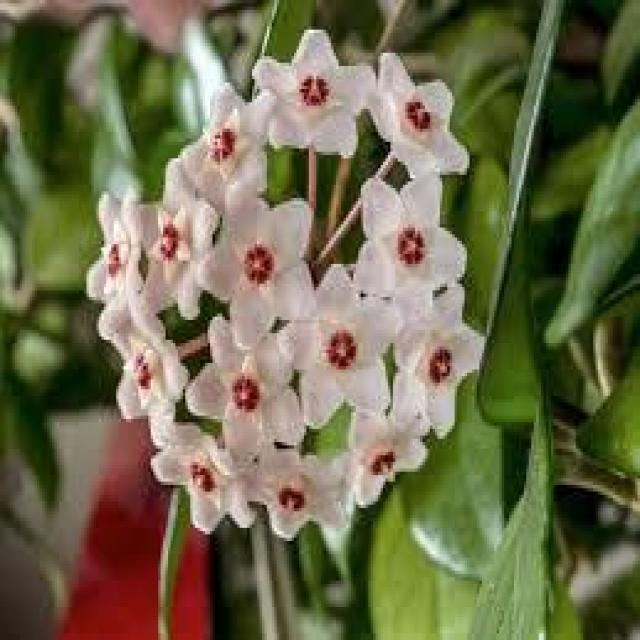organic waste: (56, 35, 473, 536)
